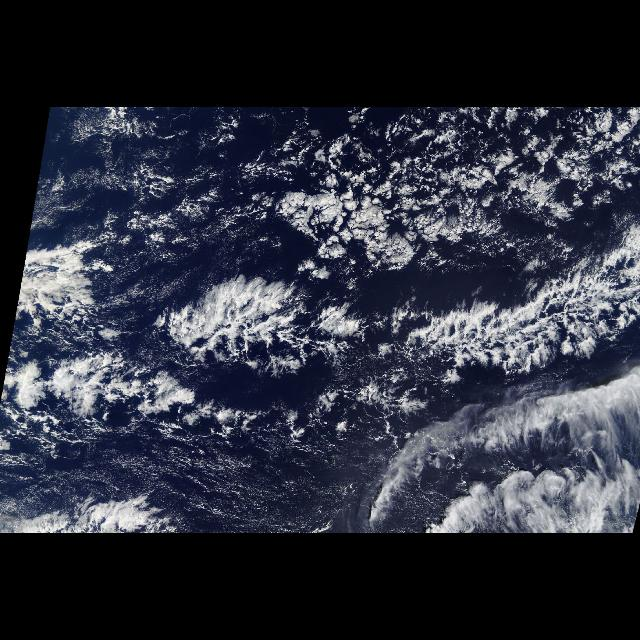Fish: (9, 241, 638, 445)
Sugar: (7, 457, 379, 518)
